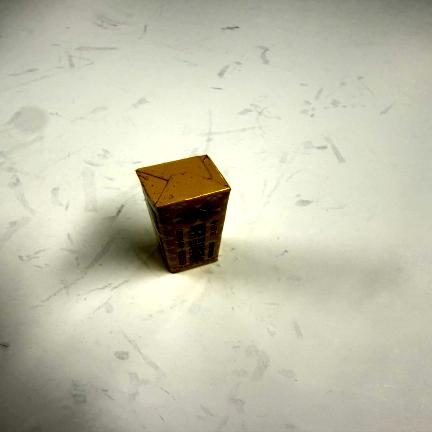gum_yellow: (137, 154, 229, 274)
